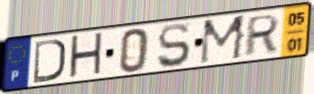0: (117, 26, 151, 75)
D: (32, 37, 68, 86)
H: (67, 30, 105, 82)
M: (197, 13, 249, 67)
R: (242, 12, 282, 59)
S: (156, 22, 193, 70)
